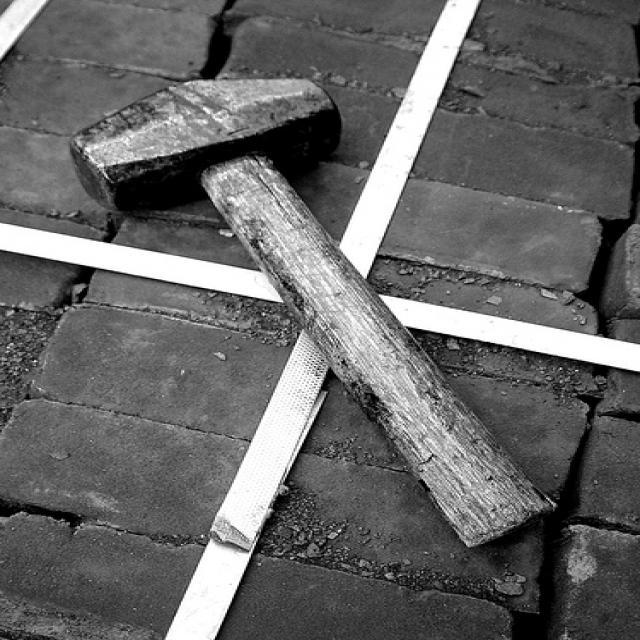hammer: (62, 67, 562, 557)
